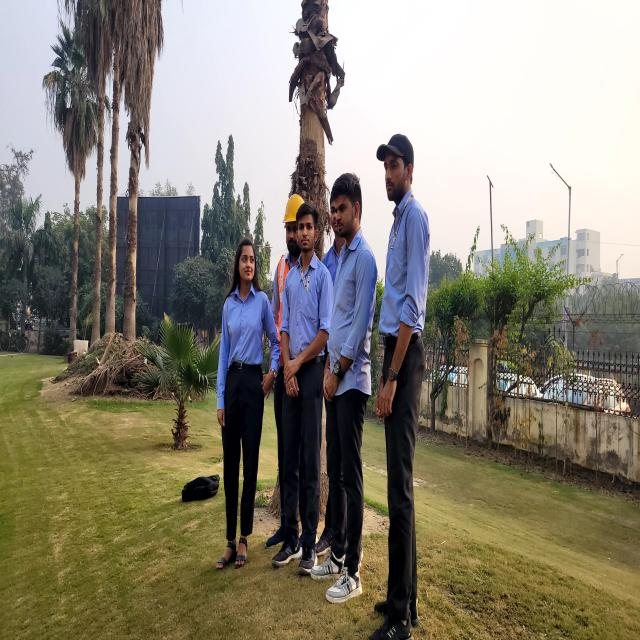unsafe: (376, 132, 431, 640), (323, 172, 373, 601), (274, 204, 326, 577), (218, 238, 268, 570)
